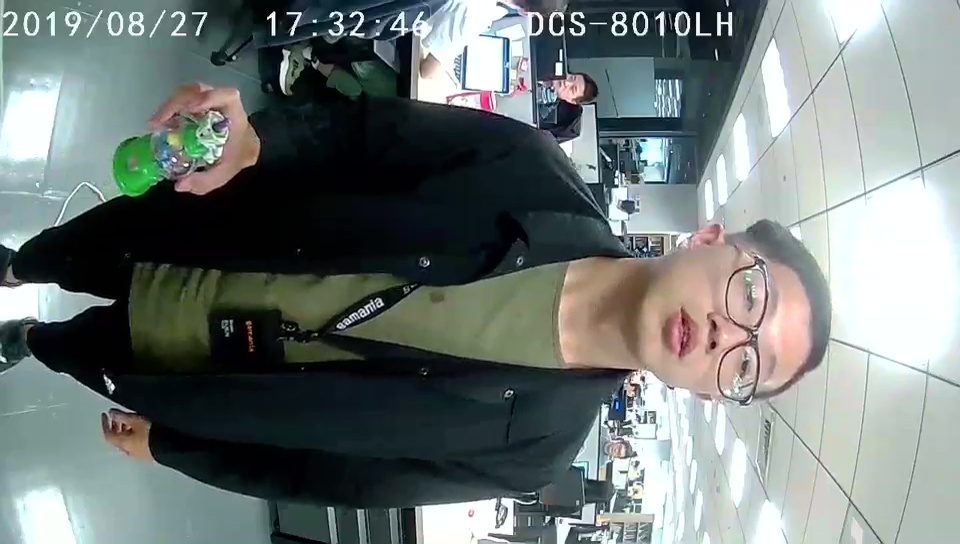buzz: (110, 107, 231, 200)
